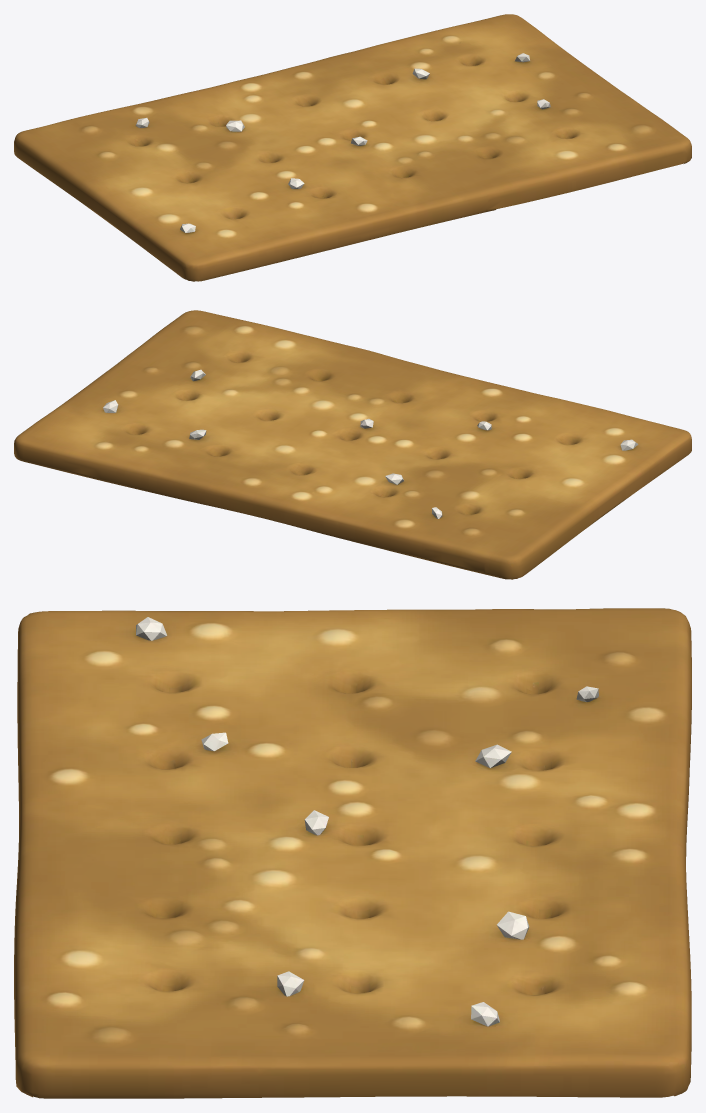
Rendered from cracker--olive-oil.glb.
The picture shows the model from 3 angles, top to bottom: view 1: azimuth 30°, elevation 25°; view 2: azimuth 150°, elevation 25°; view 3: azimuth 270°, elevation 25°; orthographic projection. The views are drawn at different scales.
Parts seen in each view (by area): view 1: cracker_olive-oil; view 2: cracker_olive-oil; view 3: cracker_olive-oil.
Part boxes in pixels (x1,y1,x2,y2): cracker_olive-oil: [14, 14, 691, 281]; cracker_olive-oil: [14, 310, 691, 579]; cracker_olive-oil: [14, 608, 691, 1098].
Size of the model in its own units: 1 by 0.0559 by 0.6266.
Materials: 1 (1 with a texture image).
